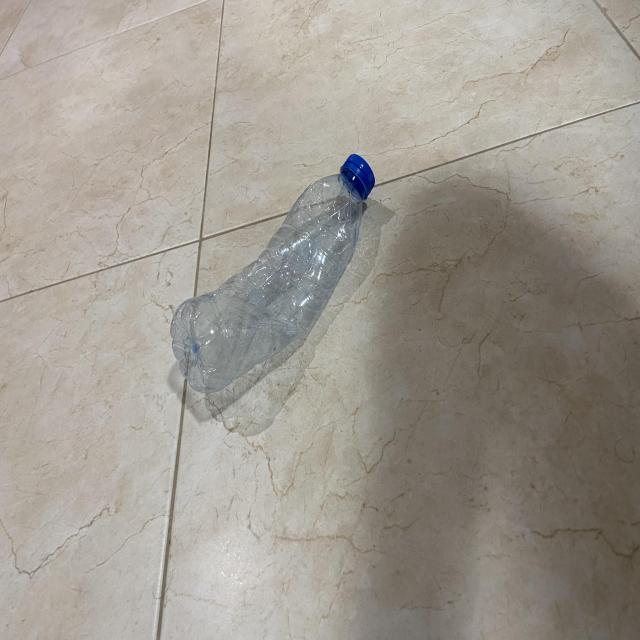bottle: (164, 163, 371, 410)
